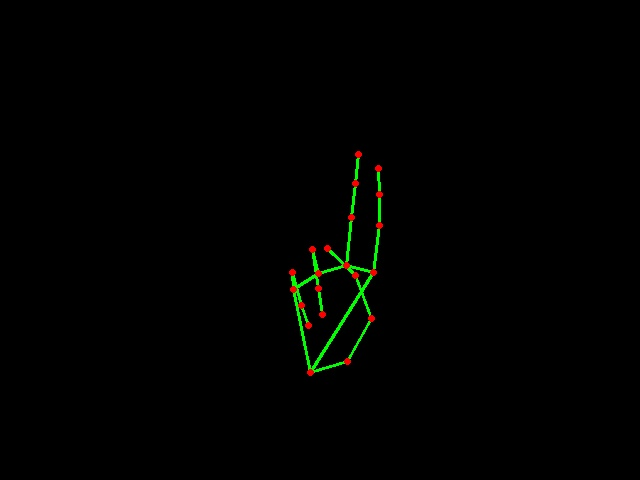forward: (274, 133, 394, 385)
